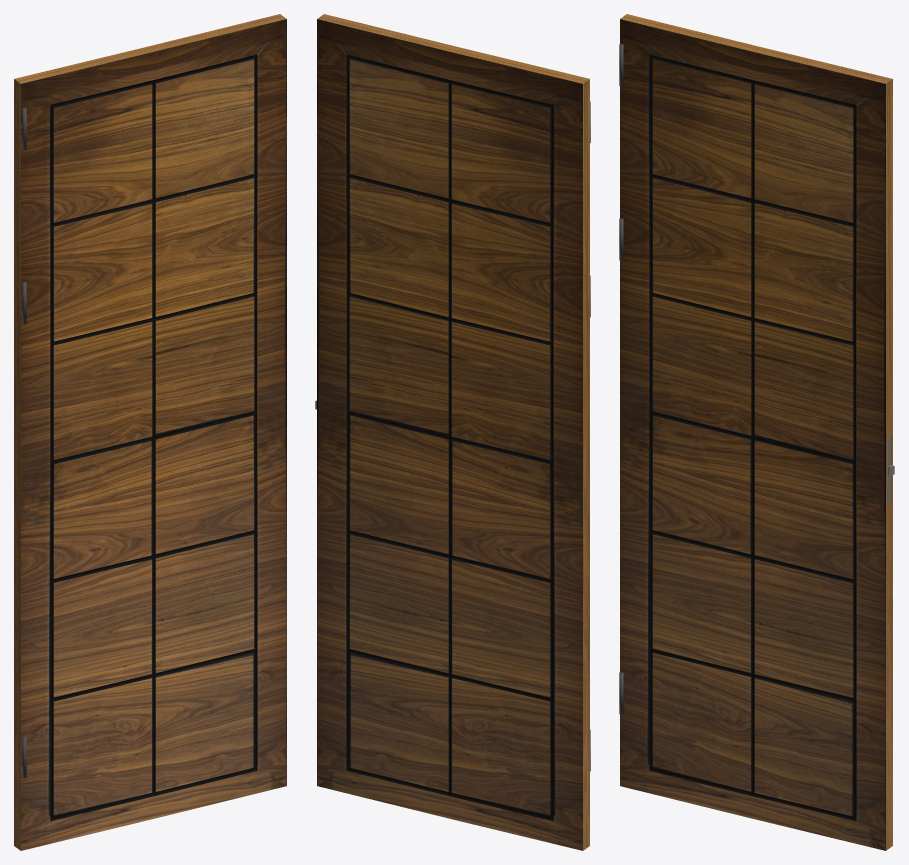
Rendered from 52_LION_Door.glb.
The picture shows the model from 3 angles, left to right: view 1: azimuth 30°, elevation 25°; view 2: azimuth 150°, elevation 25°; view 3: azimuth 330°, elevation 25°; orthographic projection.
Parts seen in each view (by area): view 1: 52_LION_Door; view 2: 52_LION_Door; view 3: 52_LION_Door.
Boxes of the visible parts, x1,y1,x2,y2 form: 52_LION_Door: [14, 14, 286, 850]; 52_LION_Door: [315, 14, 590, 850]; 52_LION_Door: [619, 14, 894, 850].
Size of the model in its own units: 0.8123 by 2.2 by 0.0471.
4 materials, 1 textured.
